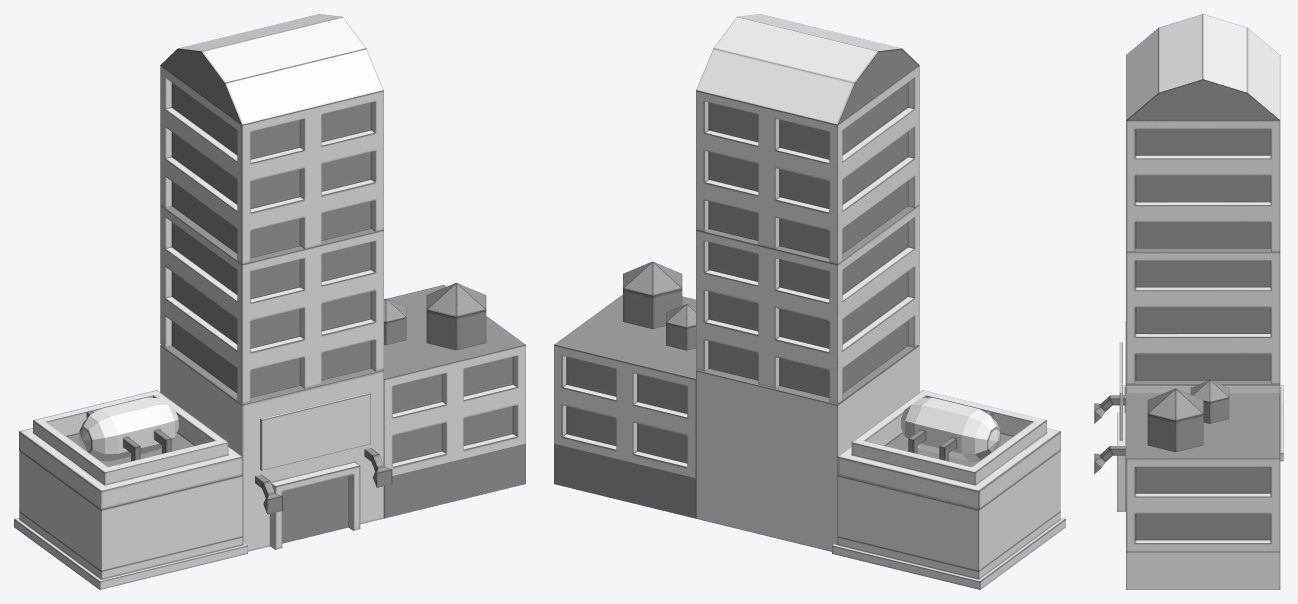
The model's file is Building-08.fbx.
3 views of the same model, side by side, from view 1: azimuth 30°, elevation 25°; view 2: azimuth 150°, elevation 25°; view 3: azimuth 270°, elevation 25° (orthographic). The views are drawn at different scales.
Visible parts, largest first — view 1: Building_08; view 2: Building_08; view 3: Building_08.
Part boxes in pixels (x1,y1,x2,y2): Building_08: (14,14,525,589); Building_08: (554,14,1065,589); Building_08: (1094,14,1283,589).
Size of the model in its own units: 6.04 by 6.37 by 2.46.
